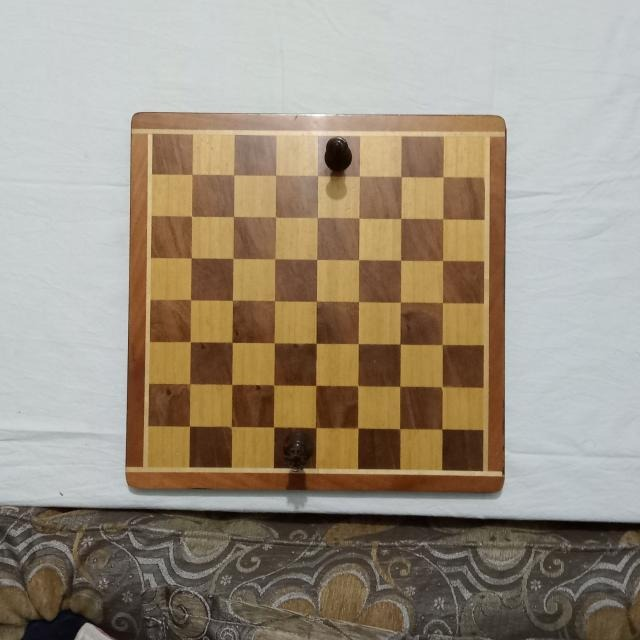black-king: (322, 138, 352, 174)
black-queen: (280, 431, 315, 473)
